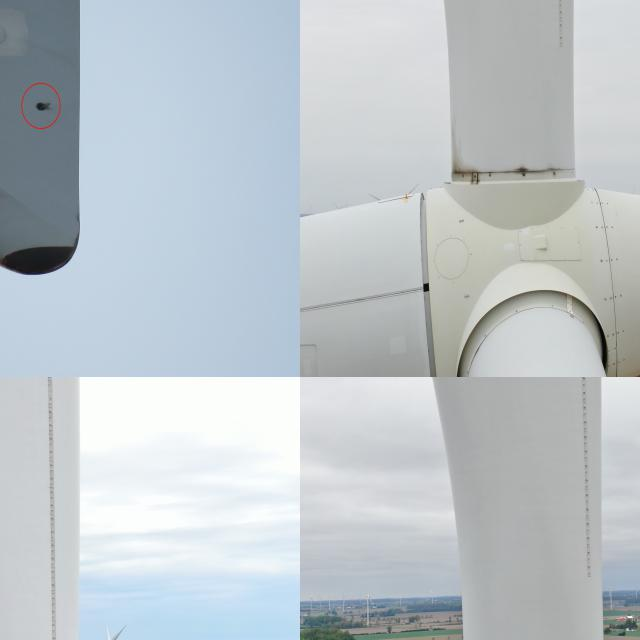damage: (443, 111, 482, 182), (30, 98, 50, 114)
